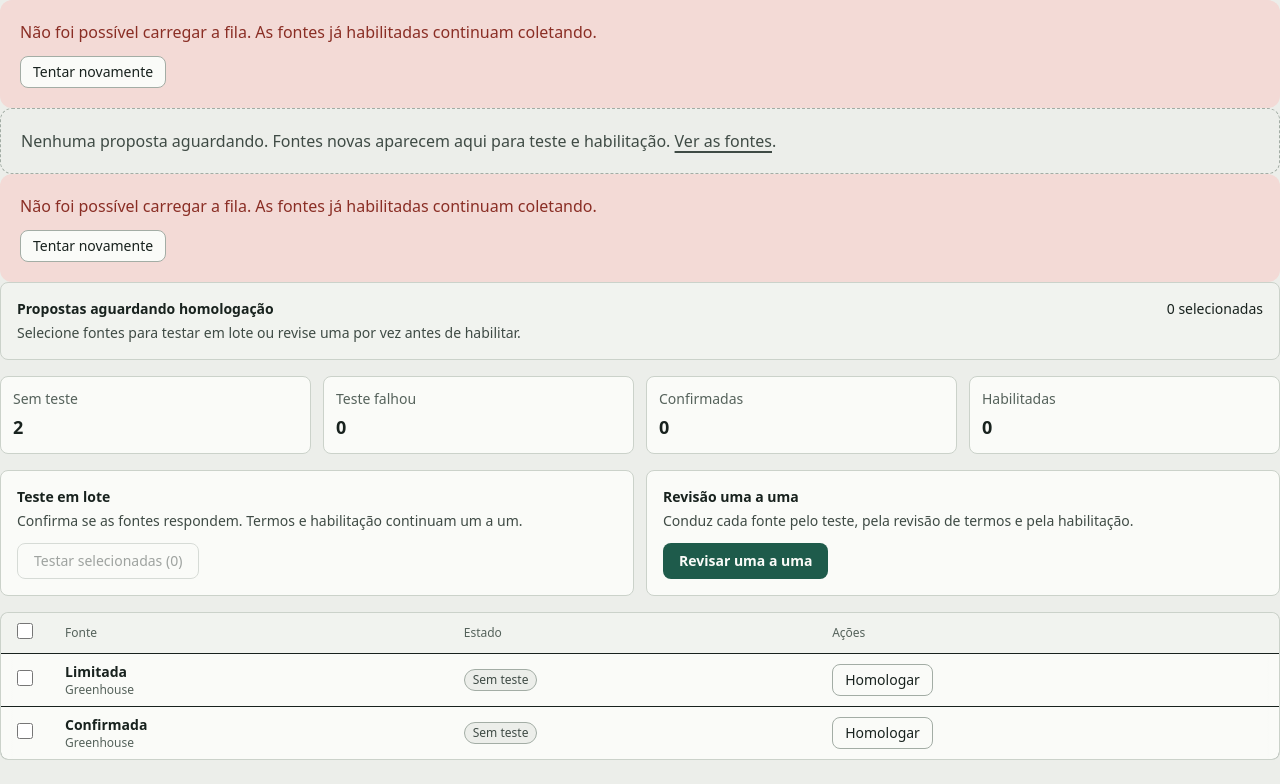
Test: HomologationQueue › parcial: resume o lote quando parte das fontes não passou
The width and height of the screenshot is (1280, 784).
Click the checkbox named "Selecionar todas as propostas". click: click(25, 631)
box: 17,623 -> 33,639
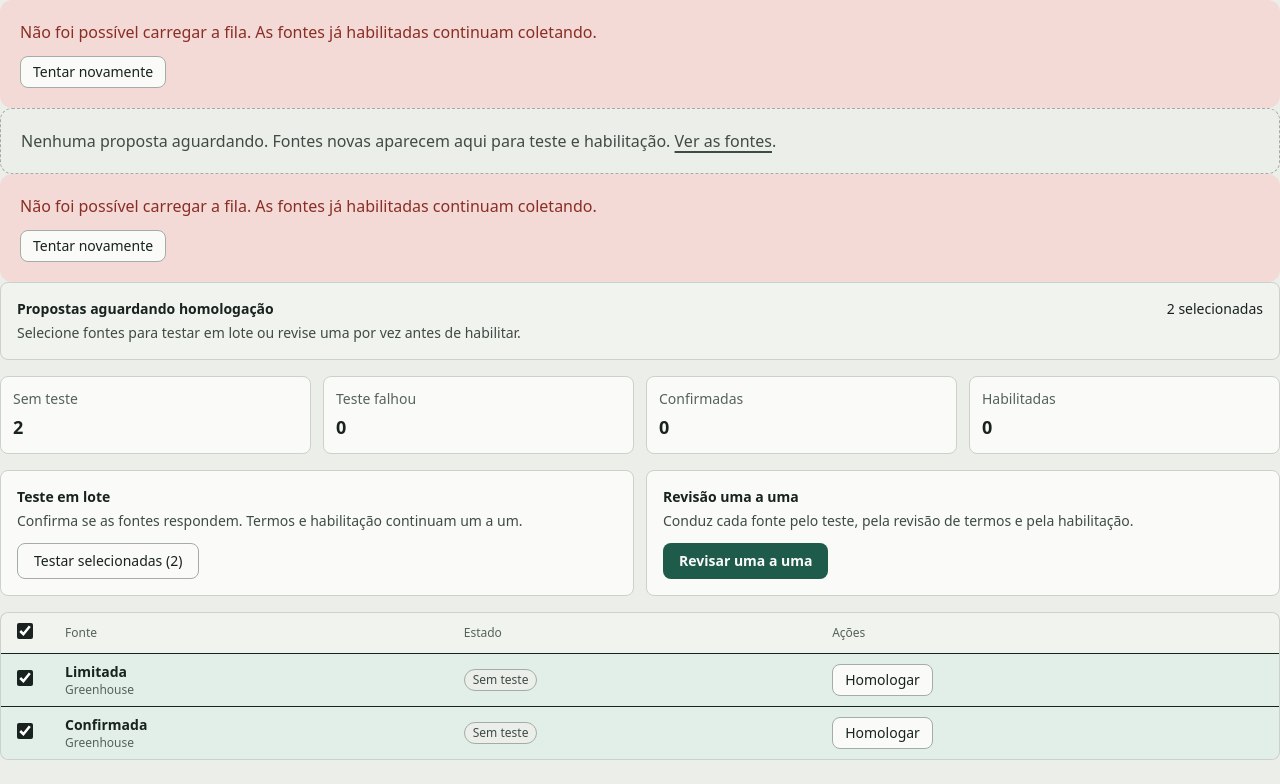
Click the button "Testar selecionadas (2)". click: click(108, 561)
box: 17,543 -> 199,579
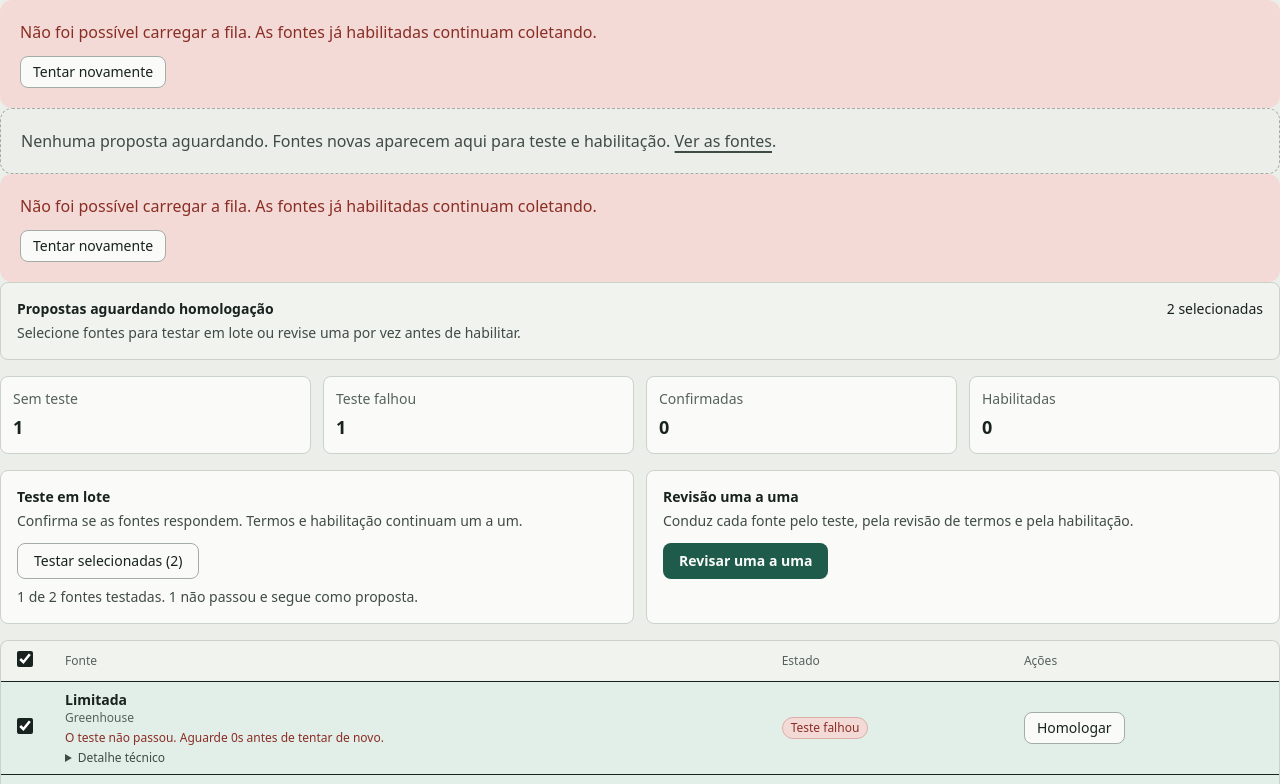
Expected: the text "1 de 2 fontes testadas. 1 não passou e segue como proposta." is shown, 17,587 -> 418,606
